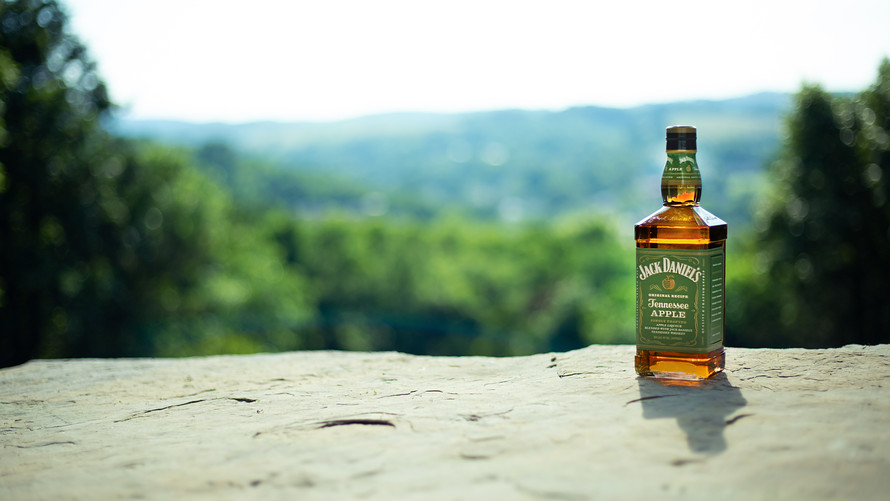Jack Daniel: (628, 116, 734, 398)
